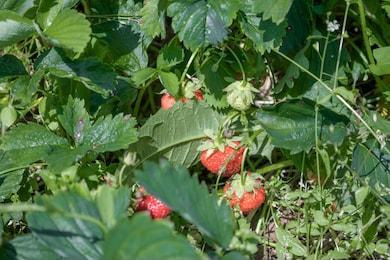Fresa: (221, 167, 270, 216), (197, 136, 247, 181)
